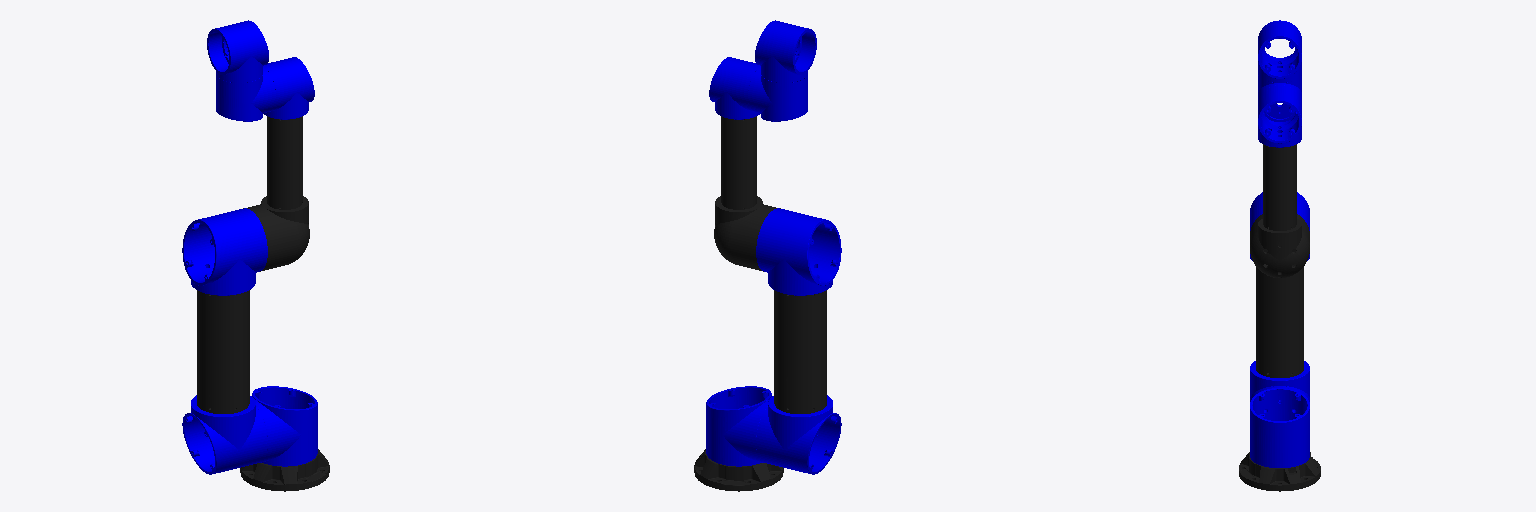
robot.urdf — measured:
<?xml version="1.0" ?>
<!-- Generated using onshape-to-robot -->
<!-- Onshape https://cad.onshape.com/documents/e413612a8832ec510847da3f/w/803fa7b6824abd888e7a7761/e/24c24df30b5c201f5853dea2 -->
<robot name="measured">
  <!-- Link base -->
  <link name="base">
    <inertial>
      <origin xyz="-0.000112659 -4.53868e-05 0.0171358" rpy="0 0 0"/>
      <mass value="0.428418"/>
      <inertia ixx="0.000646025" ixy="-2.20013e-05" ixz="6.53648e-07" iyy="0.00068996" iyz="2.63542e-07" izz="0.00124063"/>
    </inertial>
    <!-- Part base -->
    <visual>
      <origin xyz="0.005 -5.81947e-17 0.278" rpy="1.5708 -0 -1.5708"/>
      <geometry>
        <mesh filename="package://assets/base.stl"/>
      </geometry>
      <material name="base_material">
        <color rgba="0.156863 0.156863 0.156863 1.0"/>
      </material>
    </visual>
    <collision>
      <origin xyz="0.005 -5.81947e-17 0.278" rpy="1.5708 -0 -1.5708"/>
      <geometry>
        <mesh filename="package://assets/base.stl"/>
      </geometry>
    </collision>
  </link>
  <!-- Link carriage_1 -->
  <link name="carriage_1">
    <inertial>
      <origin xyz="-0.0231504 -6.84525e-06 -0.0519393" rpy="0 0 0"/>
      <mass value="0.414823"/>
      <inertia ixx="0.000867606" ixy="2.0976e-07" ixz="-5.33546e-05" iyy="0.000901772" iyz="-1.33965e-08" izz="0.00113027"/>
    </inertial>
    <!-- Part carriage_1 -->
    <visual>
      <origin xyz="0 -0.005 -0.24" rpy="-1.5708 -0 -2.1924e-85"/>
      <geometry>
        <mesh filename="package://assets/carriage_1.stl"/>
      </geometry>
      <material name="carriage_1_material">
        <color rgba="0 0 1 1.0"/>
      </material>
    </visual>
    <collision>
      <origin xyz="0 -0.005 -0.24" rpy="-1.5708 -0 -2.1924e-85"/>
      <geometry>
        <mesh filename="package://assets/carriage_1.stl"/>
      </geometry>
    </collision>
  </link>
  <!-- Link shoulder_lift -->
  <link name="shoulder_lift">
    <inertial>
      <origin xyz="0.0231503 6.83435e-06 -0.0519394" rpy="0 0 0"/>
      <mass value="0.414824"/>
      <inertia ixx="0.000867603" ixy="2.06209e-07" ixz="5.33551e-05" iyy="0.000901774" iyz="1.18811e-08" izz="0.00113027"/>
    </inertial>
    <!-- Part abs_pipe___3____measured -->
    <visual>
      <origin xyz="0.185 -0.00500247 0.0659991" rpy="-1.5708 -1.5708 0"/>
      <geometry>
        <mesh filename="package://assets/abs_pipe___3____measured.stl"/>
      </geometry>
      <material name="abs_pipe___3____measured_material">
        <color rgba="0.156863 0.156863 0.156863 1.0"/>
      </material>
    </visual>
    <collision>
      <origin xyz="0.185 -0.00500247 0.0659991" rpy="-1.5708 -1.5708 0"/>
      <geometry>
        <mesh filename="package://assets/abs_pipe___3____measured.stl"/>
      </geometry>
    </collision>
    <!-- Part link_carriage -->
    <visual>
      <origin xyz="0.189925 -0.00500234 0.0660733" rpy="-1.5708 -1.5708 0"/>
      <geometry>
        <mesh filename="package://assets/link_carriage.stl"/>
      </geometry>
      <material name="link_carriage_material">
        <color rgba="0 0 1 1.0"/>
      </material>
    </visual>
    <collision>
      <origin xyz="0.189925 -0.00500234 0.0660733" rpy="-1.5708 -1.5708 0"/>
      <geometry>
        <mesh filename="package://assets/link_carriage.stl"/>
      </geometry>
    </collision>
    <!-- Part carriage_2 -->
    <visual>
      <origin xyz="0.185077 -0.0048453 0.0660774" rpy="-1.5708 -1.5708 0"/>
      <geometry>
        <mesh filename="package://assets/carriage_2.stl"/>
      </geometry>
      <material name="carriage_2_material">
        <color rgba="0 0 1 1.0"/>
      </material>
    </visual>
    <collision>
      <origin xyz="0.185077 -0.0048453 0.0660774" rpy="-1.5708 -1.5708 0"/>
      <geometry>
        <mesh filename="package://assets/carriage_2.stl"/>
      </geometry>
    </collision>
  </link>
  <!-- Link elbow -->
  <link name="elbow">
    <inertial>
      <origin xyz="0 0 0" rpy="0 0 0"/>
      <mass value="1e-09"/>
      <inertia ixx="1e-09" ixy="0" ixz="0" iyy="1e-09" iyz="0" izz="1e-09"/>
    </inertial>
    <!-- Part knee_cap -->
    <visual>
      <origin xyz="-0.165 0.005 -0.065" rpy="1.5708 1.5708 0"/>
      <geometry>
        <mesh filename="package://assets/knee_cap.stl"/>
      </geometry>
      <material name="knee_cap_material">
        <color rgba="0.156863 0.156863 0.156863 1.0"/>
      </material>
    </visual>
    <collision>
      <origin xyz="-0.165 0.005 -0.065" rpy="1.5708 1.5708 0"/>
      <geometry>
        <mesh filename="package://assets/knee_cap.stl"/>
      </geometry>
    </collision>
    <!-- Part abs_pipe___2____measured -->
    <visual>
      <origin xyz="0.447 -0.005 -0.065" rpy="-1.5708 1.5708 0"/>
      <geometry>
        <mesh filename="package://assets/abs_pipe___2____measured.stl"/>
      </geometry>
      <material name="abs_pipe___2____measured_material">
        <color rgba="0.156863 0.156863 0.156863 1.0"/>
      </material>
    </visual>
    <collision>
      <origin xyz="0.447 -0.005 -0.065" rpy="-1.5708 1.5708 0"/>
      <geometry>
        <mesh filename="package://assets/abs_pipe___2____measured.stl"/>
      </geometry>
    </collision>
    <!-- Part wrist_carriage_1 -->
    <visual>
      <origin xyz="-0.212988 0.00499987 -0.065" rpy="1.5708 1.5708 0"/>
      <geometry>
        <mesh filename="package://assets/wrist_carriage_1.stl"/>
      </geometry>
      <material name="wrist_carriage_1_material">
        <color rgba="0 0 1 1.0"/>
      </material>
    </visual>
    <collision>
      <origin xyz="-0.212988 0.00499987 -0.065" rpy="1.5708 1.5708 0"/>
      <geometry>
        <mesh filename="package://assets/wrist_carriage_1.stl"/>
      </geometry>
    </collision>
  </link>
  <!-- Link wrist_carriage_2 -->
  <link name="wrist_carriage_2">
    <inertial>
      <origin xyz="0 0 0" rpy="0 0 0"/>
      <mass value="1e-09"/>
      <inertia ixx="1e-09" ixy="0" ixz="0" iyy="1e-09" iyz="0" izz="1e-09"/>
    </inertial>
    <!-- Part wrist_carriage_2 -->
    <visual>
      <origin xyz="-0.488487 -0.00499987 0.0409989" rpy="-1.5708 -1.5708 0"/>
      <geometry>
        <mesh filename="package://assets/wrist_carriage_2.stl"/>
      </geometry>
      <material name="wrist_carriage_2_material">
        <color rgba="0 0 1 1.0"/>
      </material>
    </visual>
    <collision>
      <origin xyz="-0.488487 -0.00499987 0.0409989" rpy="-1.5708 -1.5708 0"/>
      <geometry>
        <mesh filename="package://assets/wrist_carriage_2.stl"/>
      </geometry>
    </collision>
  </link>
  <!-- Link wrist_carriage_3 -->
  <link name="wrist_carriage_3">
    <inertial>
      <origin xyz="0 0 0" rpy="0 0 0"/>
      <mass value="1e-09"/>
      <inertia ixx="1e-09" ixy="0" ixz="0" iyy="1e-09" iyz="0" izz="1e-09"/>
    </inertial>
    <!-- Part wrist_carriage_3 -->
    <visual>
      <origin xyz="0.0895 -0.005 0.5295" rpy="-1.5708 2.2319e-32 -1.20586e-32"/>
      <geometry>
        <mesh filename="package://assets/wrist_carriage_3.stl"/>
      </geometry>
      <material name="wrist_carriage_3_material">
        <color rgba="0 0 1 1.0"/>
      </material>
    </visual>
    <collision>
      <origin xyz="0.0895 -0.005 0.5295" rpy="-1.5708 2.2319e-32 -1.20586e-32"/>
      <geometry>
        <mesh filename="package://assets/wrist_carriage_3.stl"/>
      </geometry>
    </collision>
  </link>
  <!-- Link end_effector -->
  <link name="end_effector"></link>
  
  <!-- Joint from wrist_carriage_3 to end_effector -->
  <joint name="wrist_3" type="revolute">
    <origin xyz="-0.04 -2.31674e-06 -0.048499" rpy="-1.5708 1.69864e-14 -1.5708"/>
    <parent link="wrist_carriage_3"/>
    <child link="end_effector"/>
    <axis xyz="0 0 1"/>
    <limit effort="10" velocity="10"/>
  </joint>
  <!-- Joint from wrist_carriage_2 to wrist_carriage_3 -->
  <joint name="wrist_2" type="revolute">
    <origin xyz="0.0400128 1.31418e-07 -0.0485011" rpy="4.93038e-32 -1.5708 0"/>
    <parent link="wrist_carriage_2"/>
    <child link="wrist_carriage_3"/>
    <axis xyz="0 0 1"/>
    <limit effort="10" velocity="10" lower="-3.141592653589793" upper="3.141592653589793"/>
  </joint>
  <!-- Joint from elbow to wrist_carriage_2 -->
  <joint name="wrist_1" type="revolute">
    <origin xyz="0.275499 -4.64012e-11 -0.0250011" rpy="-3.14159 1.81665e-15 -5.9952e-14"/>
    <parent link="elbow"/>
    <child link="wrist_carriage_2"/>
    <axis xyz="0 0 1"/>
    <limit effort="10" velocity="10" lower="-3.141592653589793" upper="3.141592653589793"/>
  </joint>
  <!-- Joint from shoulder_lift to elbow -->
  <joint name="shoulder_bend" type="revolute">
    <origin xyz="0.355003 -2.33792e-06 -4.03249e-06" rpy="-3.14159 -6.02188e-17 5.35683e-14"/>
    <parent link="shoulder_lift"/>
    <child link="elbow"/>
    <axis xyz="0 0 1"/>
    <limit effort="10" velocity="10" lower="-3.141592653589793" upper="3.141592653589793"/>
  </joint>
  <!-- Joint from carriage_1 to shoulder_lift -->
  <joint name="shoulder_lift" type="revolute">
    <origin xyz="-0.065 -2.46924e-06 -0.0549991" rpy="-2.88427e-30 1.5708 0"/>
    <parent link="carriage_1"/>
    <child link="shoulder_lift"/>
    <axis xyz="0 0 1"/>
    <limit effort="10" velocity="10" lower="-3.141592653589793" upper="3.141592653589793"/>
  </joint>
  <!-- Joint from base to carriage_1 -->
  <joint name="shoulder_rotate" type="revolute">
    <origin xyz="-7.46966e-06 -2.93707e-06 0.037" rpy="-3.14159 -1.38121e-42 -1.11022e-16"/>
    <parent link="base"/>
    <child link="carriage_1"/>
    <axis xyz="0 0 1"/>
    <limit effort="10" velocity="10" lower="-3.141592653589793" upper="3.141592653589793"/>
  </joint>
</robot>

--- Render facts (derived) ---
The picture shows the robot from 3 angles, left to right: view 1: azimuth 30°, elevation 25°; view 2: azimuth 150°, elevation 25°; view 3: azimuth 270°, elevation 25°; orthographic projection.
Model measured with 7 links and 6 joints (6 revolute), rooted at base, posed all joints at 0.
Links seen in each view (by area): view 1: shoulder_lift, elbow, carriage_1, wrist_carriage_3, wrist_carriage_2, base; view 2: shoulder_lift, elbow, carriage_1, wrist_carriage_3, wrist_carriage_2, base; view 3: elbow, shoulder_lift, carriage_1, wrist_carriage_3, base, wrist_carriage_2.
Boxes of the visible links, x1,y1,x2,y2 form: shoulder_lift: (182, 208, 267, 474); elbow: (243, 57, 314, 271); carriage_1: (252, 386, 317, 466); wrist_carriage_3: (207, 20, 268, 82); wrist_carriage_2: (216, 67, 275, 121); base: (240, 449, 329, 491); shoulder_lift: (756, 208, 841, 474); elbow: (709, 57, 780, 271); carriage_1: (706, 386, 771, 466); wrist_carriage_3: (755, 20, 816, 82); wrist_carriage_2: (748, 67, 807, 121); base: (694, 449, 783, 491); elbow: (1250, 85, 1309, 277); shoulder_lift: (1250, 192, 1309, 401); carriage_1: (1250, 386, 1309, 467); wrist_carriage_3: (1258, 20, 1301, 82); base: (1239, 452, 1320, 491); wrist_carriage_2: (1258, 76, 1301, 121).
Size in the robot's own frame: 0.2509 by 0.15 by 0.851 metres.
Meshes: 10 distinct files referenced, 10 mesh visuals loaded (10 binary STL).